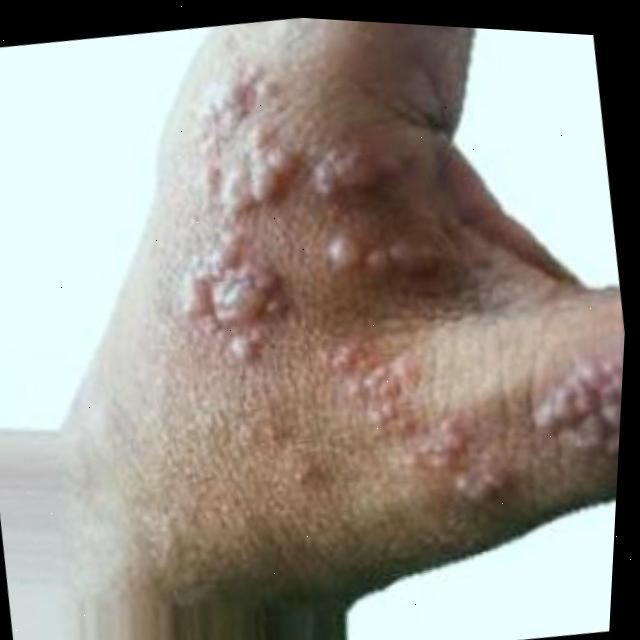Shingles: (147, 10, 640, 558)
